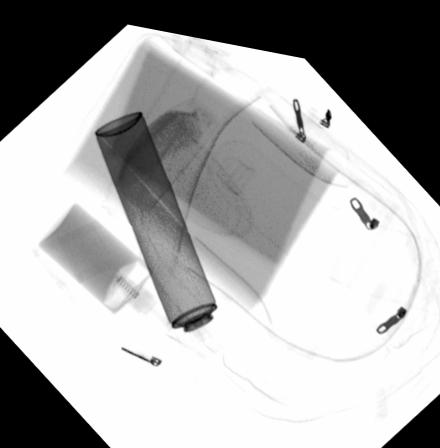Sprayer: (92, 102, 233, 352)
